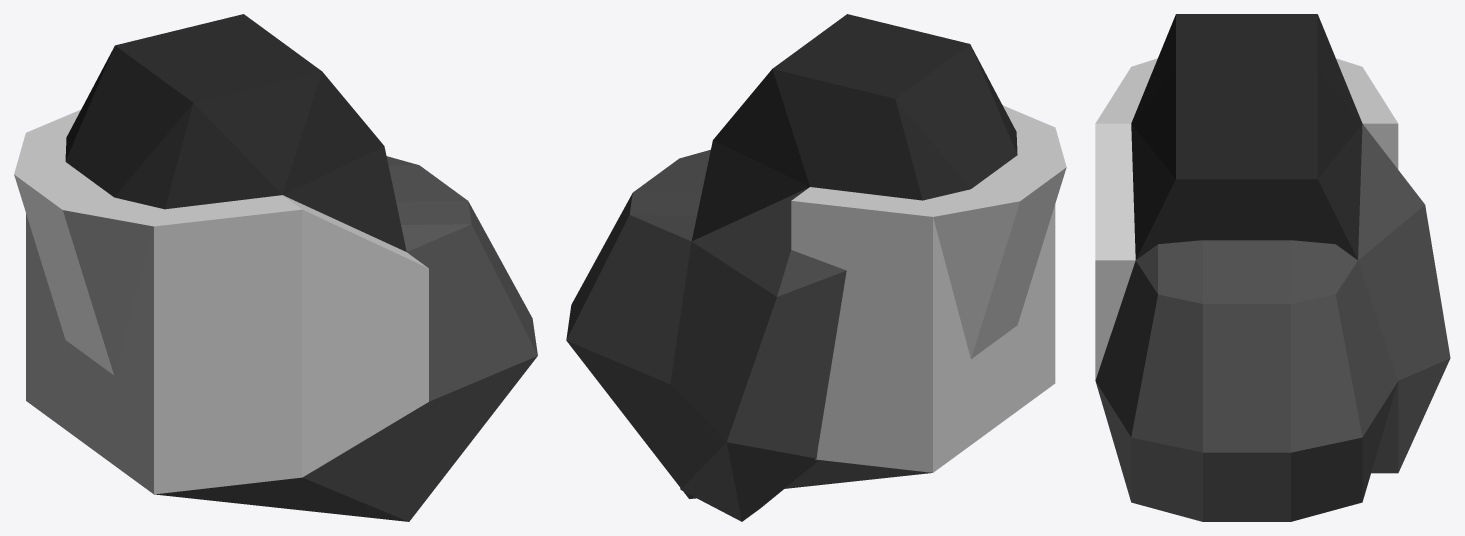
Rendered from LHand.fbx.
3 renders of one model, left to right at view 1: azimuth 30°, elevation 25°; view 2: azimuth 150°, elevation 25°; view 3: azimuth 270°, elevation 25°, orthographic. The views are drawn at different scales.
Parts seen in each view (by area): view 1: Shape_IndexedFaceSet.038, Shape_IndexedFaceSet.036, Shape_IndexedFaceSet.037; view 2: Shape_IndexedFaceSet.037, Shape_IndexedFaceSet.038, Shape_IndexedFaceSet.036; view 3: Shape_IndexedFaceSet.037, Shape_IndexedFaceSet.036, Shape_IndexedFaceSet.038.
Part boxes in pixels (x1=…): Shape_IndexedFaceSet.038: x1=14, y1=109, x2=428, y2=494; Shape_IndexedFaceSet.036: x1=65, y1=14, x2=406, y2=251; Shape_IndexedFaceSet.037: x1=154, y1=156, x2=537, y2=521; Shape_IndexedFaceSet.037: x1=566, y1=149, x2=931, y2=521; Shape_IndexedFaceSet.038: x1=791, y1=105, x2=1066, y2=472; Shape_IndexedFaceSet.036: x1=691, y1=14, x2=1017, y2=240; Shape_IndexedFaceSet.037: x1=1095, y1=124, x2=1450, y2=521; Shape_IndexedFaceSet.036: x1=1131, y1=14, x2=1362, y2=259; Shape_IndexedFaceSet.038: x1=1095, y1=58, x2=1398, y2=380.
Bounding box in the file's own units: 0.1252 × 0.1163 × 0.0907.
3 materials, 3 textured.
